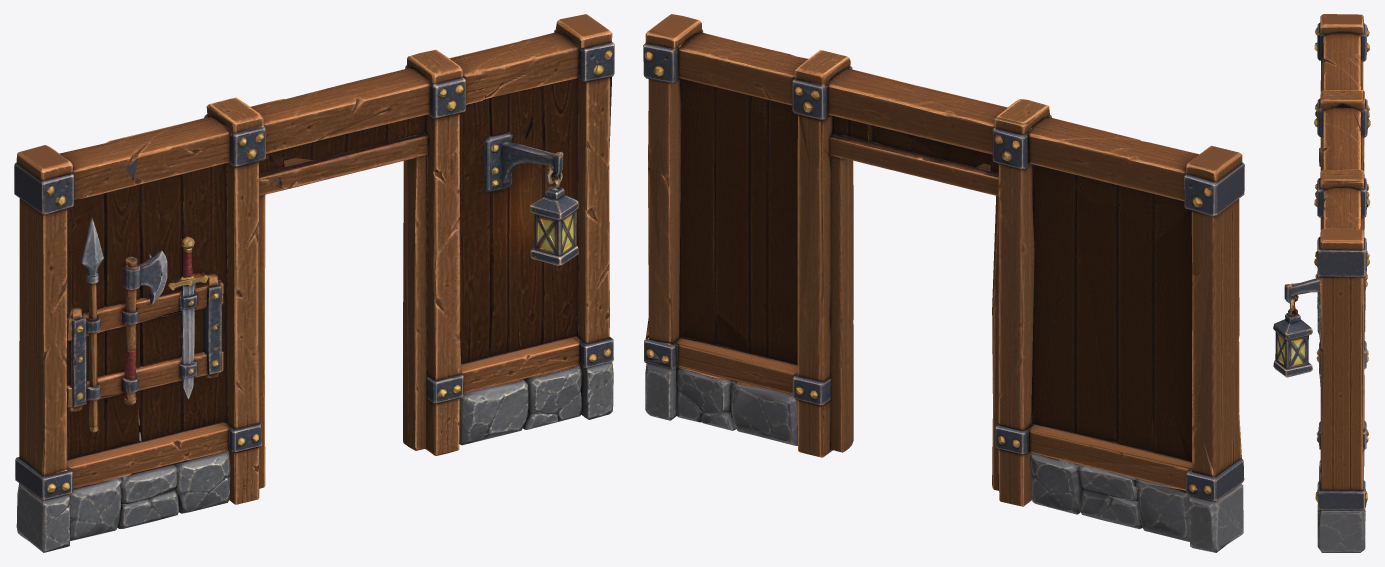
File: wall_entrance.glb
3 renders of one model, left to right at view 1: azimuth 30°, elevation 25°; view 2: azimuth 150°, elevation 25°; view 3: azimuth 270°, elevation 25°, orthographic. The views are drawn at different scales.
Parts seen in each view (by area): view 1: output_unwrapped; view 2: output_unwrapped; view 3: output_unwrapped.
Part boxes in pixels (x1,y1,x2,y2): output_unwrapped: (14,14,614,552); output_unwrapped: (643,14,1244,552); output_unwrapped: (1273,14,1370,552).
Size of the model in its own units: 1.9 by 1.22 by 0.3438.
Materials: 1 (1 with a texture image).
